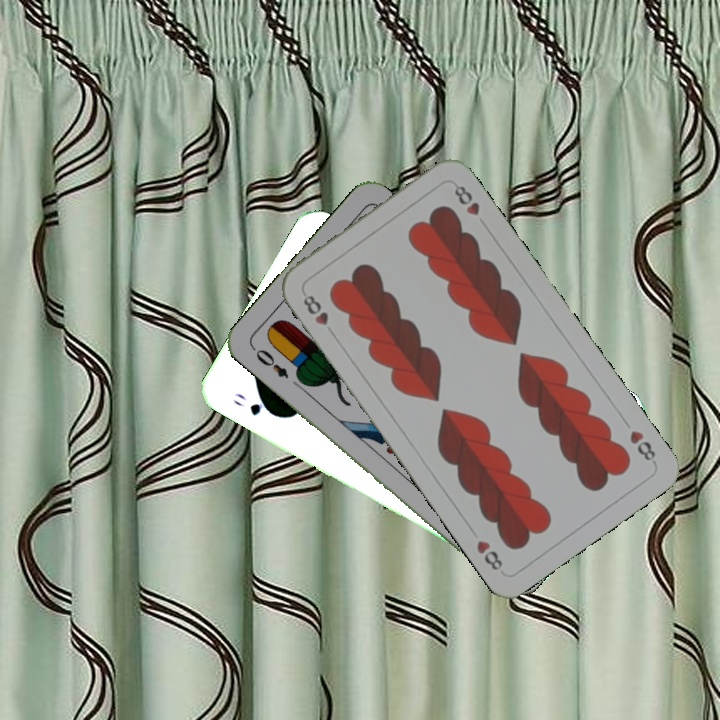EO: (248, 343, 292, 381)
GO: (229, 388, 279, 419)
H8: (625, 426, 659, 467), (298, 289, 332, 329)
